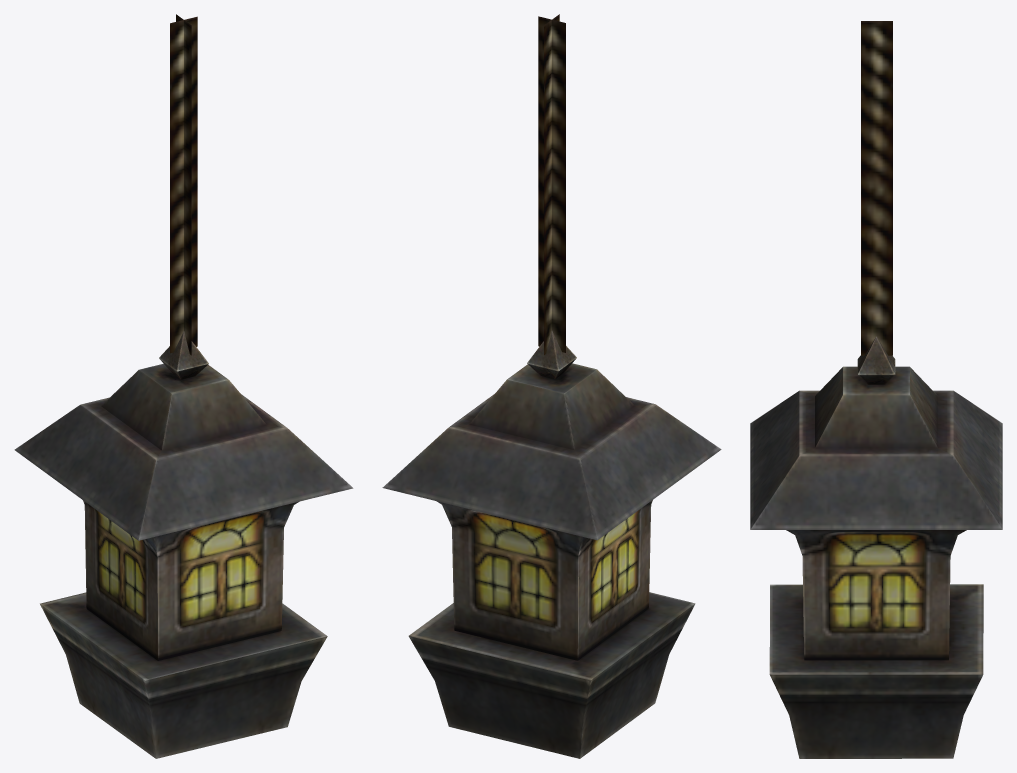
File: GY_ludeng003.fbx
3 views of the same model, side by side, from view 1: azimuth 30°, elevation 25°; view 2: azimuth 150°, elevation 25°; view 3: azimuth 270°, elevation 25° (orthographic).
Parts seen in each view (by area): view 1: GY_ludeng003; view 2: GY_ludeng003; view 3: GY_ludeng003.
Boxes of the visible parts, x1=… form: GY_ludeng003: x1=14, y1=14, x2=353, y2=758; GY_ludeng003: x1=382, y1=14, x2=721, y2=758; GY_ludeng003: x1=750, y1=21, x2=1002, y2=758.
Bounding box in the file's own units: 32.27 × 99.64 × 32.27.
